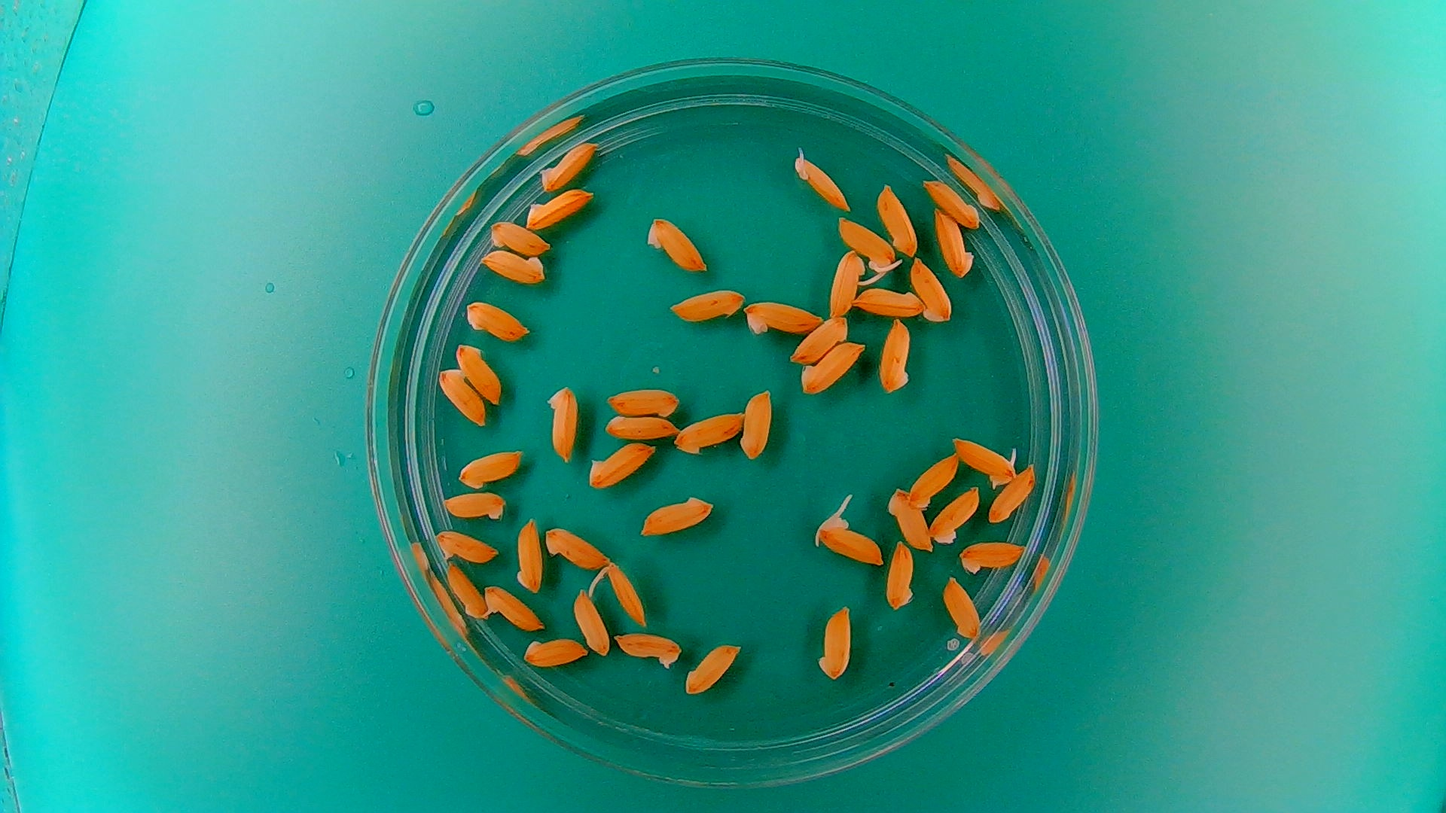no: (798, 336, 868, 397), (644, 212, 709, 273), (874, 179, 921, 257), (919, 174, 984, 230), (535, 137, 600, 193), (927, 483, 983, 546), (638, 492, 715, 537), (682, 640, 743, 696), (905, 450, 961, 510), (542, 523, 612, 570), (931, 207, 976, 280), (986, 461, 1038, 524), (740, 297, 824, 336), (436, 364, 487, 428), (523, 185, 595, 230), (454, 340, 503, 406), (884, 487, 933, 553), (908, 254, 954, 324), (788, 314, 851, 364), (456, 446, 526, 491), (462, 297, 532, 342), (940, 572, 984, 643), (667, 285, 746, 324), (571, 584, 612, 659), (441, 559, 489, 623), (816, 601, 853, 684), (825, 245, 867, 318), (612, 628, 685, 670), (877, 316, 914, 397), (544, 381, 579, 464), (957, 536, 1029, 575), (603, 384, 682, 418), (883, 537, 918, 613), (740, 385, 775, 461), (477, 248, 548, 285), (432, 527, 501, 565), (513, 513, 544, 594), (485, 217, 551, 255), (520, 635, 589, 668), (440, 489, 508, 522), (853, 285, 923, 317), (602, 412, 677, 441)
yes: (813, 507, 886, 568), (590, 559, 651, 629), (791, 147, 854, 214), (834, 214, 901, 276), (585, 438, 657, 490), (951, 434, 1018, 489), (483, 580, 547, 633)
